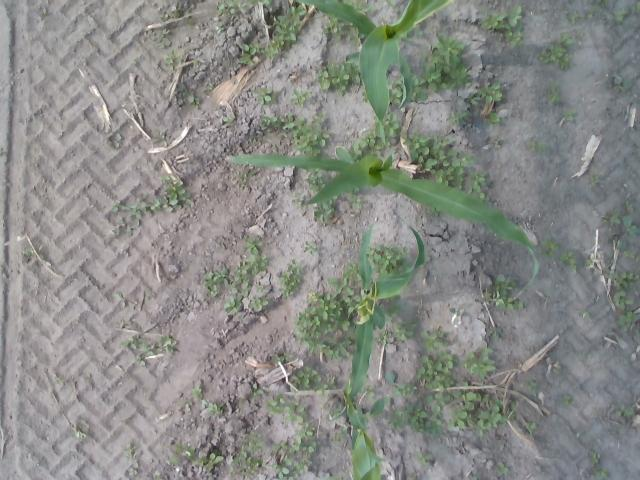Maize: (224, 146, 539, 303), (298, 0, 454, 144), (349, 208, 426, 454), (342, 376, 392, 480)
Weeds: (110, 173, 192, 236), (293, 278, 354, 360), (452, 380, 516, 435), (262, 112, 331, 156), (270, 421, 318, 480), (388, 393, 449, 439), (420, 35, 470, 90), (404, 132, 476, 168), (119, 333, 178, 366), (482, 6, 523, 49), (230, 430, 264, 480), (168, 444, 224, 472), (416, 350, 456, 388), (484, 274, 526, 310), (318, 61, 361, 96), (274, 4, 305, 48), (292, 366, 336, 395), (369, 370, 397, 414), (268, 393, 306, 424), (368, 245, 410, 273), (609, 215, 640, 252), (279, 258, 306, 297), (462, 346, 496, 376), (232, 254, 268, 282), (222, 283, 248, 315), (203, 268, 229, 299), (350, 132, 380, 158), (539, 45, 570, 70), (604, 270, 640, 288), (422, 329, 448, 350), (476, 83, 504, 102), (432, 168, 464, 184), (391, 321, 417, 340), (470, 169, 487, 198), (450, 301, 468, 326), (612, 290, 634, 310), (217, 0, 246, 14), (200, 400, 222, 418), (242, 236, 264, 254), (388, 78, 402, 106), (234, 166, 254, 185), (290, 88, 311, 106), (323, 15, 344, 33), (116, 292, 137, 310), (385, 296, 402, 318), (384, 114, 401, 136), (312, 203, 331, 222), (162, 50, 180, 70), (344, 262, 362, 282), (306, 170, 324, 190), (122, 444, 143, 461), (330, 426, 349, 444), (248, 295, 268, 312), (616, 312, 638, 327), (445, 109, 468, 123), (238, 45, 254, 65), (152, 128, 168, 148), (413, 75, 426, 99), (253, 88, 272, 104), (614, 76, 633, 92), (270, 352, 294, 364), (547, 80, 560, 102), (356, 385, 374, 400), (602, 213, 621, 227), (544, 240, 558, 258), (396, 384, 416, 396), (559, 252, 576, 266), (417, 452, 434, 466), (126, 463, 140, 480), (618, 404, 634, 418), (490, 110, 508, 122), (352, 0, 370, 12), (347, 28, 362, 42), (529, 141, 548, 152), (262, 46, 278, 58), (304, 241, 318, 254), (349, 194, 362, 208), (251, 383, 263, 398), (177, 83, 185, 105), (524, 381, 538, 393), (290, 193, 304, 205), (589, 173, 600, 188), (374, 331, 386, 344), (110, 134, 122, 147), (588, 451, 598, 466), (494, 464, 509, 474), (188, 96, 200, 108), (522, 420, 536, 430), (222, 114, 234, 125), (158, 37, 171, 47), (560, 34, 573, 44), (594, 470, 608, 479), (559, 395, 570, 406), (566, 109, 576, 121), (467, 94, 479, 104), (625, 201, 635, 213), (491, 327, 500, 340), (253, 284, 266, 293), (623, 250, 637, 258), (631, 2, 640, 13), (618, 8, 626, 20), (570, 13, 580, 22), (374, 117, 380, 132), (192, 386, 204, 393), (387, 0, 399, 7), (193, 59, 202, 68), (215, 26, 225, 34), (414, 26, 422, 36), (578, 33, 584, 46), (596, 0, 608, 6), (584, 258, 593, 266), (75, 426, 81, 438), (253, 42, 260, 52), (172, 9, 180, 17), (588, 7, 594, 17), (362, 92, 368, 102), (160, 13, 168, 20), (188, 18, 195, 26), (404, 34, 411, 42), (203, 86, 212, 92), (42, 8, 48, 17), (384, 138, 390, 146), (52, 374, 58, 380), (495, 140, 501, 146), (262, 0, 270, 4), (248, 0, 256, 4), (636, 256, 640, 264), (583, 311, 589, 316), (473, 476, 478, 480)
